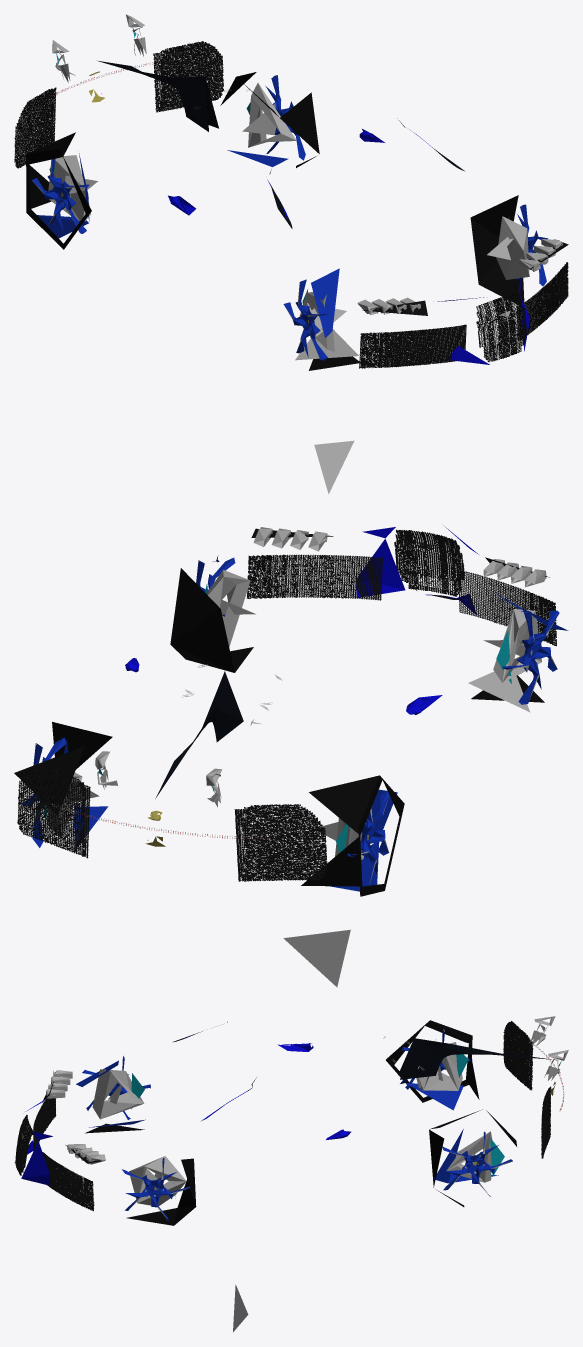
Rendered from bugatti_low.obj.
3 renders of one model, top to bottom at view 1: azimuth 30°, elevation 25°; view 2: azimuth 150°, elevation 25°; view 3: azimuth 270°, elevation 25°, orthographic. The views are drawn at different scales.
Visible parts, largest first — view 1: bugatti_lo; view 2: bugatti_lo; view 3: bugatti_lo.
Part boxes in pixels (x1,y1,x2,y2): bugatti_lo: (14,14,568,493); bugatti_lo: (14,525,568,987); bugatti_lo: (14,1016,568,1332).
Bounding box in the file's own units: 7.39 × 7.64 × 13.19.
